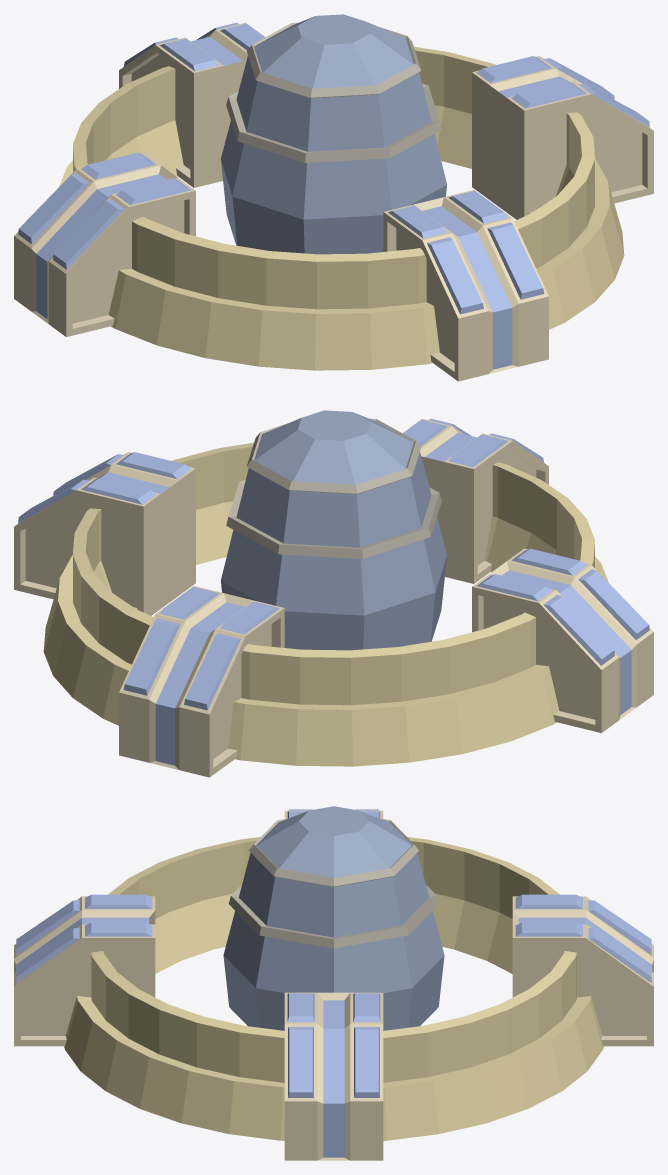
File: PlayerBase.fbx
The picture shows the model from 3 angles, top to bottom: view 1: azimuth 30°, elevation 25°; view 2: azimuth 150°, elevation 25°; view 3: azimuth 270°, elevation 25°; orthographic projection. The views are drawn at different scales.
Visible parts, largest first — view 1: PlayerBase.002; view 2: PlayerBase.002; view 3: PlayerBase.002.
Part boxes in pixels (x1=…): PlayerBase.002: x1=14, y1=14, x2=653, y2=381; PlayerBase.002: x1=14, y1=410, x2=653, y2=777; PlayerBase.002: x1=14, y1=806, x2=653, y2=1160.
Size of the model in its own units: 648 by 230 by 648.
